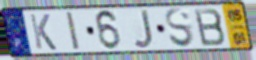6: (94, 8, 125, 52)
B: (192, 7, 228, 48)
I: (64, 11, 82, 52)
J: (132, 9, 155, 50)
K: (28, 13, 58, 51)
S: (164, 6, 197, 49)
